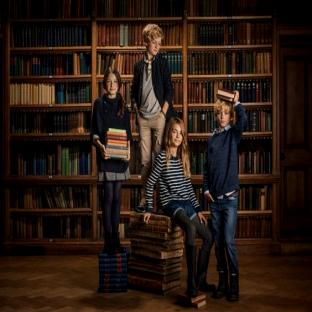Human: (131, 24, 247, 300), (91, 68, 133, 252)
